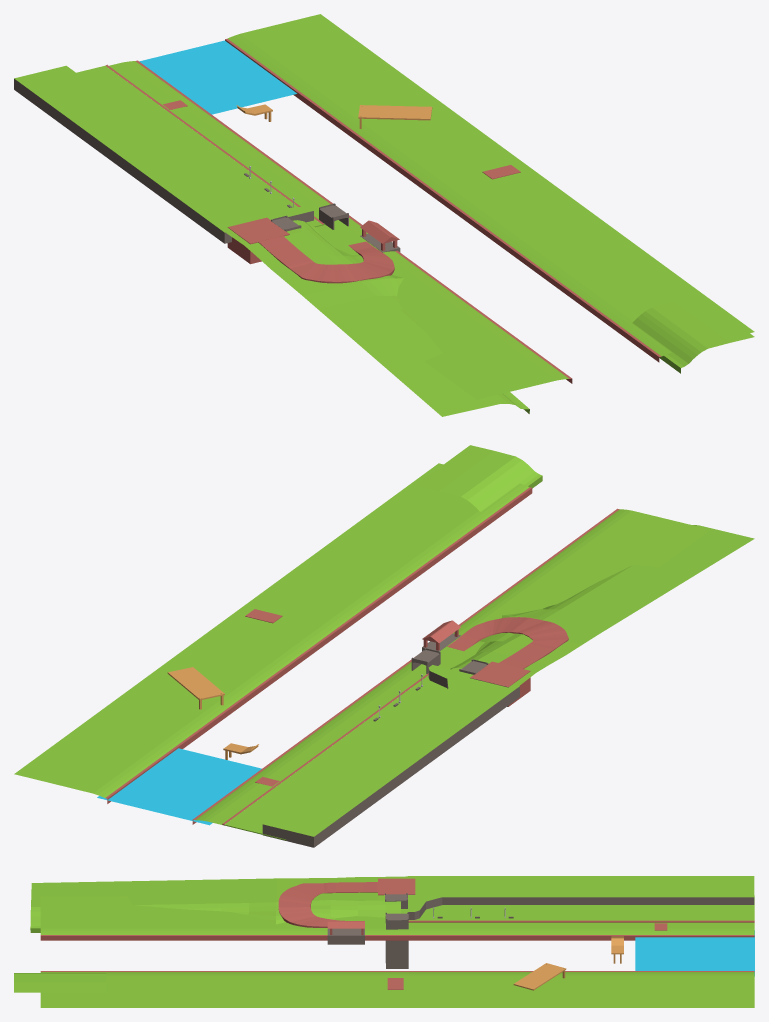
Rendered from main.glb.
The picture shows the model from 3 angles, top to bottom: view 1: azimuth 30°, elevation 25°; view 2: azimuth 150°, elevation 25°; view 3: azimuth 270°, elevation 25°; orthographic projection. The views are drawn at different scales.
Parts seen in each view (by area): view 1: Offroad1, Wall, Hill, River, Borders, Hill 2, Cube.002, Intersection1, RoadWood2; view 2: Offroad1, Wall, Hill, River, Borders, Hill 2, Cube.002, Intersection1, RoadWood2; view 3: Offroad1, Wall, Hill, Borders, River, Cube.002, Hill 2, Road Bridge, RoadWood2, Intersection1, Altar Floor, Altar Ceil (+1 smaller).
Part boxes in pixels (<box>): Offroad1: <box>76,14,754,399</box>; Wall: <box>14,65,313,243</box>; Hill: <box>225,220,529,416</box>; River: <box>139,40,296,114</box>; Borders: <box>106,38,661,383</box>; Hill 2: <box>632,296,754,373</box>; Cube.002: <box>258,236,394,283</box>; Intersection1: <box>227,217,289,264</box>; RoadWood2: <box>358,105,432,128</box>; Offroad1: <box>14,463,710,840</box>; Wall: <box>262,665,519,847</box>; Hill: <box>450,525,754,685</box>; River: <box>97,748,261,825</box>; Borders: <box>105,487,619,824</box>; Hill 2: <box>415,445,542,511</box>; Cube.002: <box>447,617,568,668</box>; Intersection1: <box>470,661,530,706</box>; RoadWood2: <box>167,667,224,709</box>; Offroad1: <box>40,895,754,1007</box>; Wall: <box>408,876,754,919</box>; Hill: <box>30,876,407,932</box>; Borders: <box>40,920,754,971</box>; River: <box>635,930,754,976</box>; Cube.002: <box>278,882,377,927</box>; Hill 2: <box>14,973,106,992</box>; Road Bridge: <box>385,912,408,968</box>; RoadWood2: <box>513,963,566,990</box>; Intersection1: <box>378,878,415,896</box>; Altar Floor: <box>327,928,364,944</box>; Altar Ceil: <box>327,921,364,928</box>.
Bounding box in the file's own units: 355 × 65.76 × 872.
